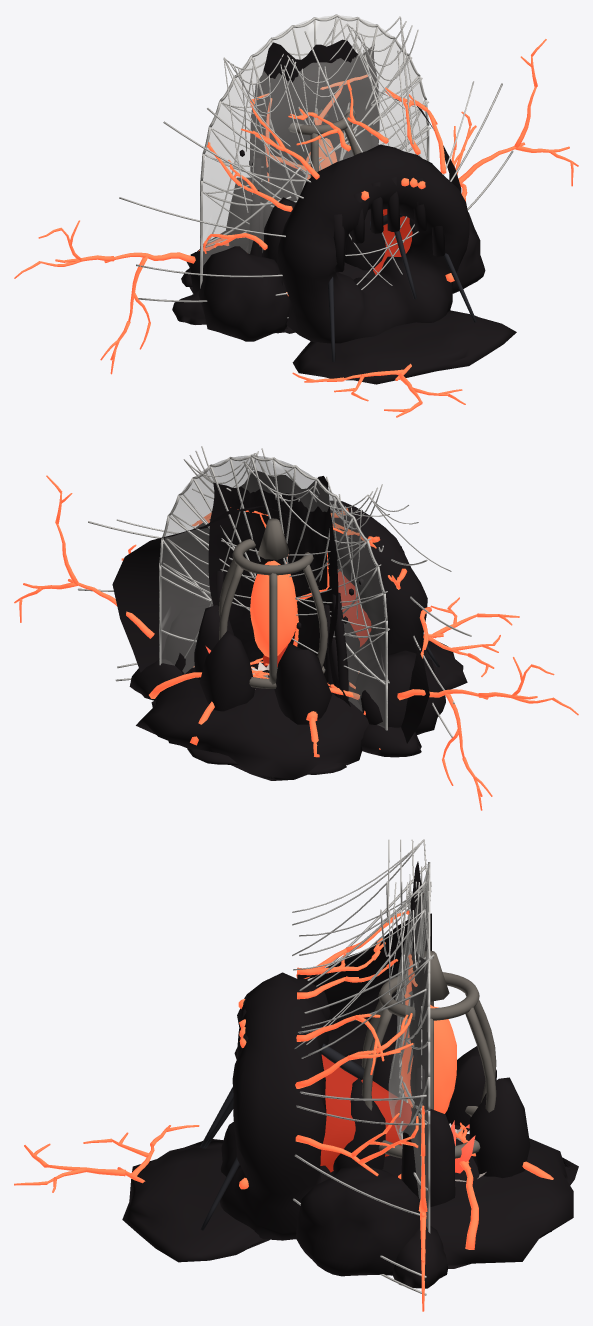
File: infestation.glb
The picture shows the model from 3 angles, top to bottom: view 1: azimuth 30°, elevation 25°; view 2: azimuth 150°, elevation 25°; view 3: azimuth 270°, elevation 25°; orthographic projection. The views are drawn at different scales.
Visible parts, largest first — view 1: Nest_Rim, Silk_Wall, Goo_Wall, Web_Drape, Relic_Heart_Mass, Nest_Silk, Relic_Heart_Cage, Nest_Maw; view 2: Nest_Rim, Silk_Wall, Relic_Heart_Mass, Goo_Wall, Relic_Heart_Cage, Relic_Heart_Core, Web_Drape, Nest_Maw, Nest_Silk, Goo_Pool; view 3: Nest_Rim, Relic_Heart_Mass, Silk_Wall, Relic_Heart_Cage, Web_Drape, Nest_Maw, Goo_Wall, Nest_Silk, Relic_Heart_Core, Nest_Leg2.
Boxes of the visible parts, x1,y1,x2,y2 form: Nest_Rim: (14,39,578,417); Silk_Wall: (172,14,430,324); Goo_Wall: (245,39,379,257); Web_Drape: (223,16,427,212); Relic_Heart_Mass: (187,177,385,333); Nest_Silk: (119,31,513,318); Relic_Heart_Cage: (288,108,360,177); Nest_Maw: (373,209,412,274); Nest_Rim: (14,475,578,810); Silk_Wall: (129,453,421,757); Relic_Heart_Mass: (136,605,368,780); Goo_Wall: (208,471,350,706); Relic_Heart_Cage: (218,518,327,688); Relic_Heart_Core: (250,560,297,657); Web_Drape: (183,446,451,629); Nest_Maw: (263,569,371,666); Nest_Silk: (77,469,471,737); Goo_Pool: (168,741,380,774); Nest_Rim: (14,910,431,1311); Relic_Heart_Mass: (331,1046,578,1268); Silk_Wall: (388,862,447,1288); Relic_Heart_Cage: (361,950,496,1158); Web_Drape: (292,839,434,1078); Nest_Maw: (320,1054,411,1172); Goo_Wall: (404,861,427,1120); Nest_Silk: (293,865,426,1295); Relic_Heart_Core: (400,1005,456,1113); Nest_Leg2: (200,1043,364,1148).
Bounding box in the file's own units: 5.48 × 2.83 × 3.86.
